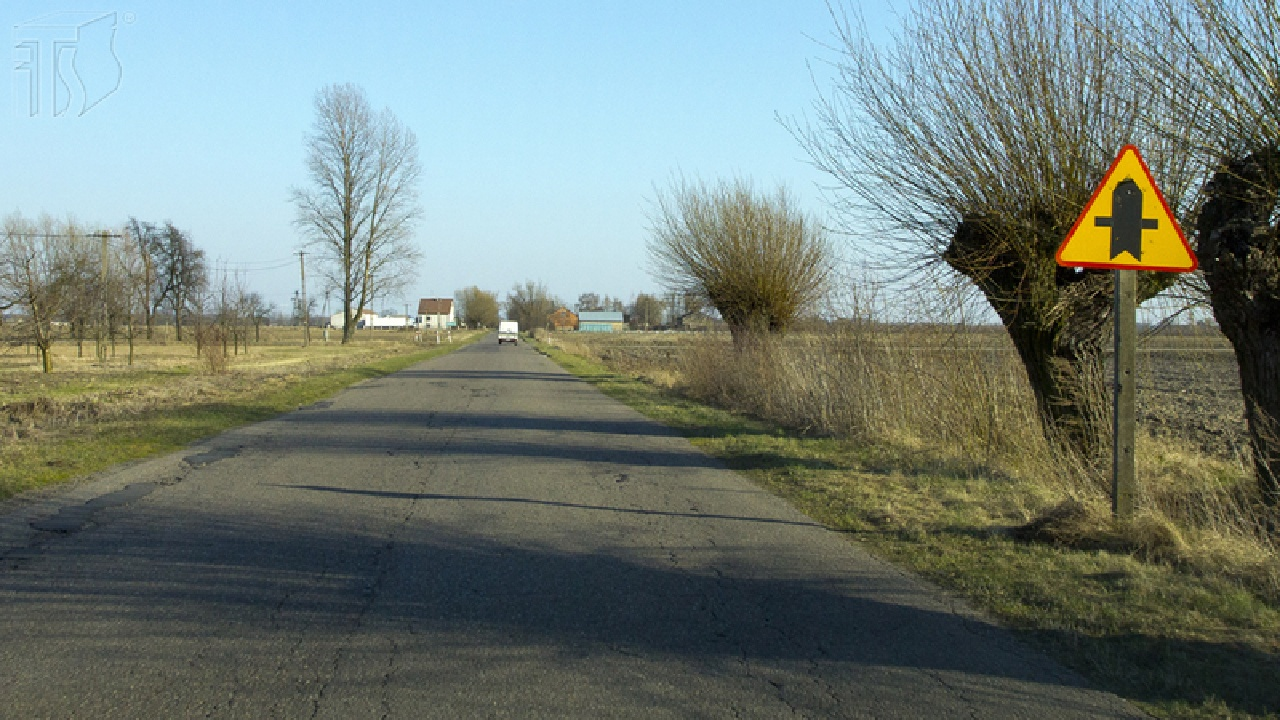A6a: (1055, 144, 1197, 273)
